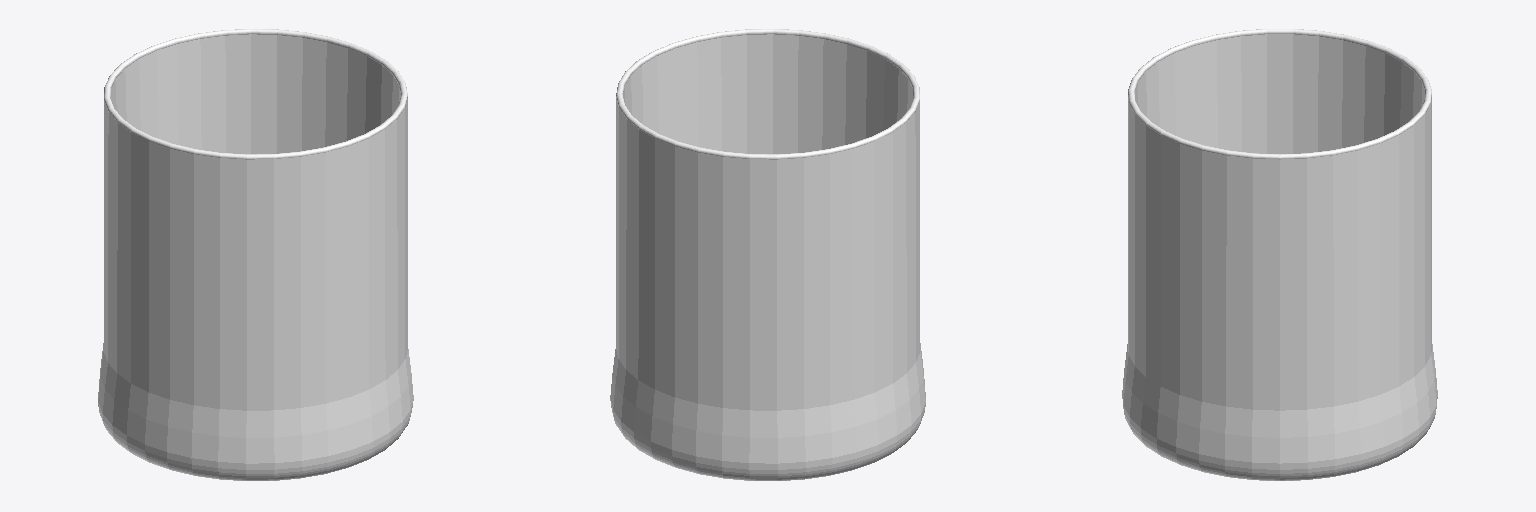
Rendered from WhGlass.obj.
3 renders of one model, left to right at view 1: azimuth 30°, elevation 25°; view 2: azimuth 150°, elevation 25°; view 3: azimuth 270°, elevation 25°, orthographic.
Visible parts, largest first — view 1: Lathe_NURBS; view 2: Lathe_NURBS; view 3: Lathe_NURBS.
Part boxes in pixels (x1,y1,x2,y2): Lathe_NURBS: (98,29,413,480); Lathe_NURBS: (610,29,925,480); Lathe_NURBS: (1122,29,1437,480).
Size of the model in its own units: 2.19 by 2.52 by 2.19.